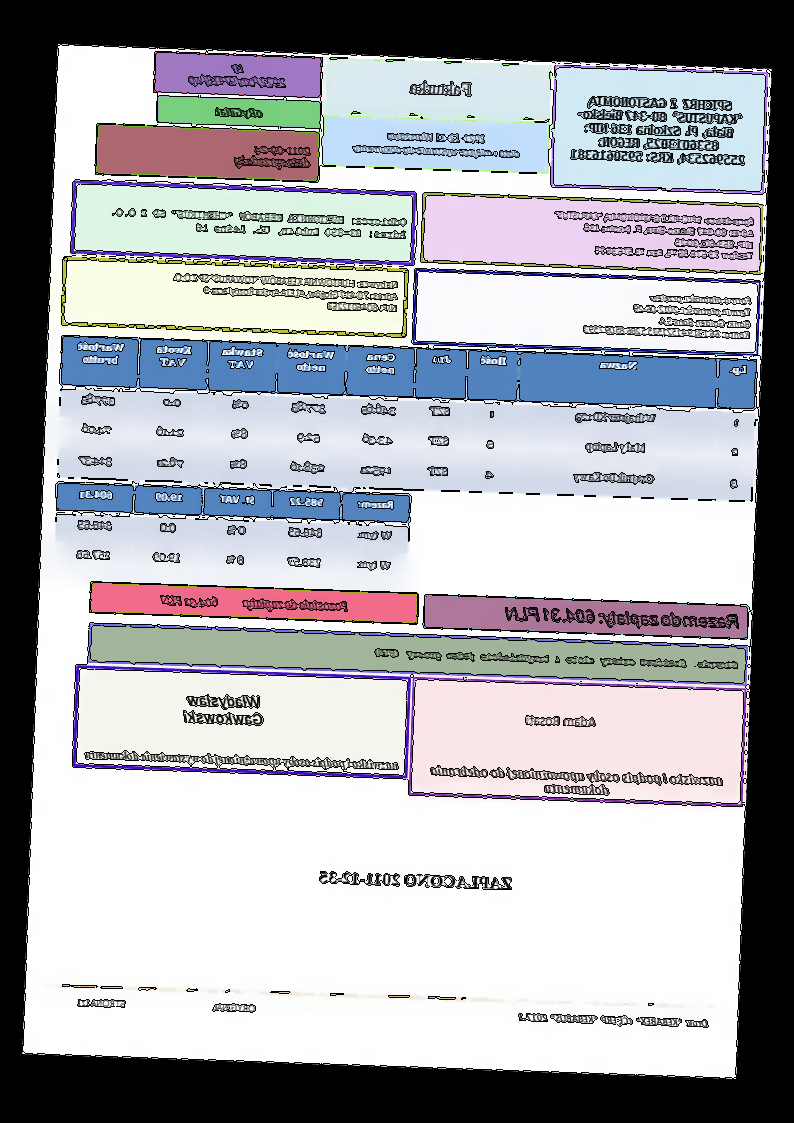Table: (57, 335, 758, 503), (53, 482, 411, 586)
TextBox: (569, 93, 750, 167), (109, 204, 408, 242), (429, 763, 726, 800), (551, 209, 756, 262), (170, 271, 401, 314), (371, 646, 740, 672), (581, 289, 753, 341), (83, 747, 401, 775), (500, 604, 744, 633), (351, 128, 524, 161), (315, 867, 515, 893), (159, 592, 352, 615), (516, 1010, 711, 1030), (187, 59, 291, 93), (181, 690, 265, 728), (232, 144, 313, 173), (408, 79, 474, 99), (525, 713, 600, 729), (213, 104, 266, 121), (76, 997, 129, 1011), (212, 1001, 258, 1015)
